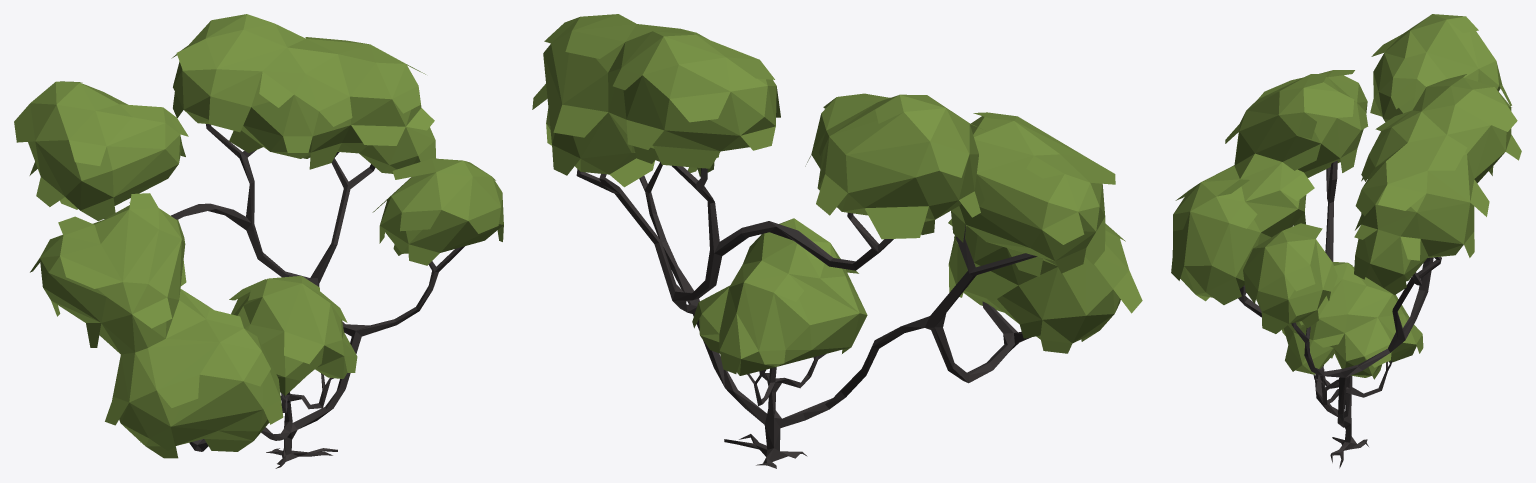
File: Tree_Forest_Green_03.fbx
3 renders of one model, left to right at view 1: azimuth 30°, elevation 25°; view 2: azimuth 150°, elevation 25°; view 3: azimuth 270°, elevation 25°, orthographic. The views are drawn at different scales.
Visible parts, largest first — view 1: Tree_Forest_Green_03; view 2: Tree_Forest_Green_03; view 3: Tree_Forest_Green_03.
Part boxes in pixels (left/top/right/bottom): Tree_Forest_Green_03: left=14, top=14, right=503, bottom=468; Tree_Forest_Green_03: left=532, top=14, right=1142, bottom=468; Tree_Forest_Green_03: left=1171, top=14, right=1521, bottom=468.
Size of the model in its own units: 1435 by 1219 by 1048.
